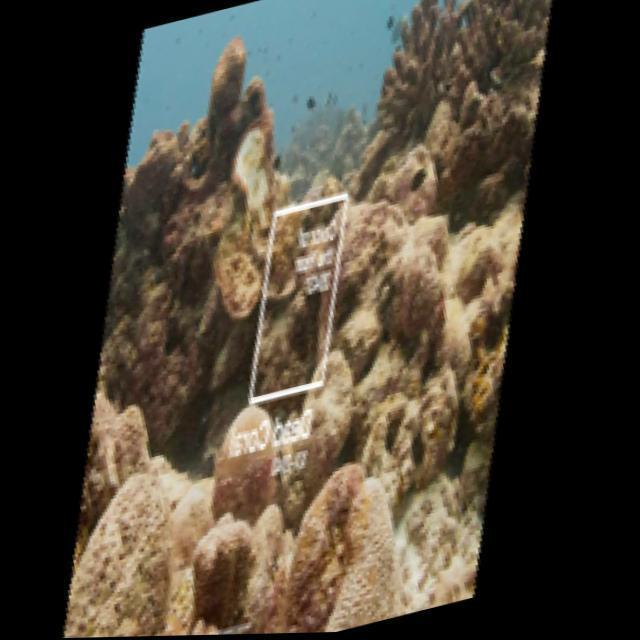Dead Coral: (84, 28, 312, 236), (350, 0, 589, 194), (62, 433, 280, 639), (269, 446, 453, 635), (359, 214, 504, 417)
